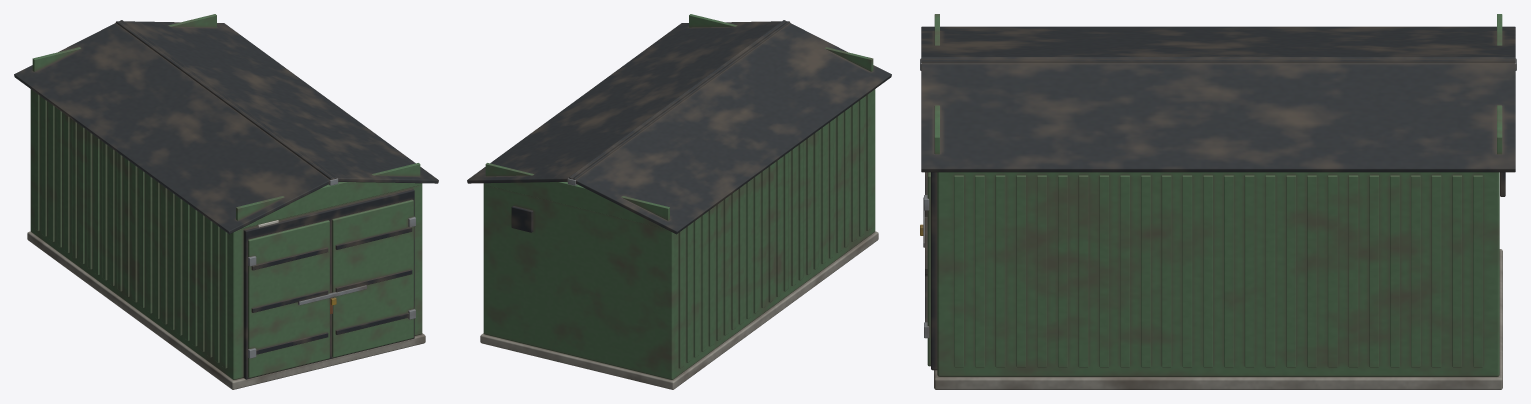
Rendered from blaszak_1.glb.
3 renders of one model, left to right at view 1: azimuth 30°, elevation 25°; view 2: azimuth 150°, elevation 25°; view 3: azimuth 270°, elevation 25°, orthographic. The views are drawn at different scales.
Visible parts, largest first — view 1: Blaszak; view 2: Blaszak; view 3: Blaszak.
Boxes of the visible parts, x1=… form: Blaszak: x1=14, y1=14, x2=438, y2=389; Blaszak: x1=467, y1=14, x2=891, y2=389; Blaszak: x1=920, y1=14, x2=1516, y2=389.
Bounding box in the file's own units: 3.11 × 2.72 × 5.52.
Materials: 2 (2 with a texture image).
